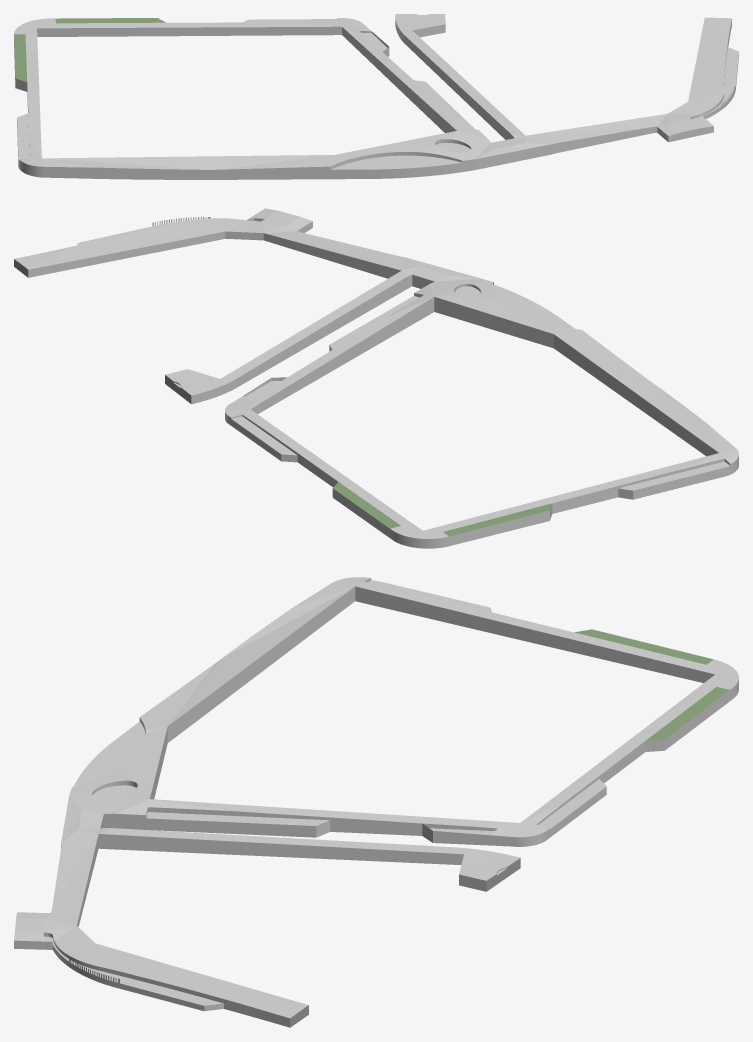
Rendered from Storängen E4 KV 7 & 8.dae.
3 renders of one model, top to bottom at view 1: azimuth 30°, elevation 25°; view 2: azimuth 150°, elevation 25°; view 3: azimuth 270°, elevation 25°, orthographic. The views are drawn at different scales.
Parts seen in each view (by area): view 1: geometry-lumionModel (×2); view 2: geometry-lumionModel (×2); view 3: geometry-lumionModel (×2).
Part boxes in pixels (bbox=[...]): geometry-lumionModel (×2): bbox=[14, 14, 738, 179]; geometry-lumionModel (×2): bbox=[14, 208, 738, 548]; geometry-lumionModel (×2): bbox=[14, 577, 738, 1027].
Bounding box in the file's own units: 169 × 118 × 3.27.
